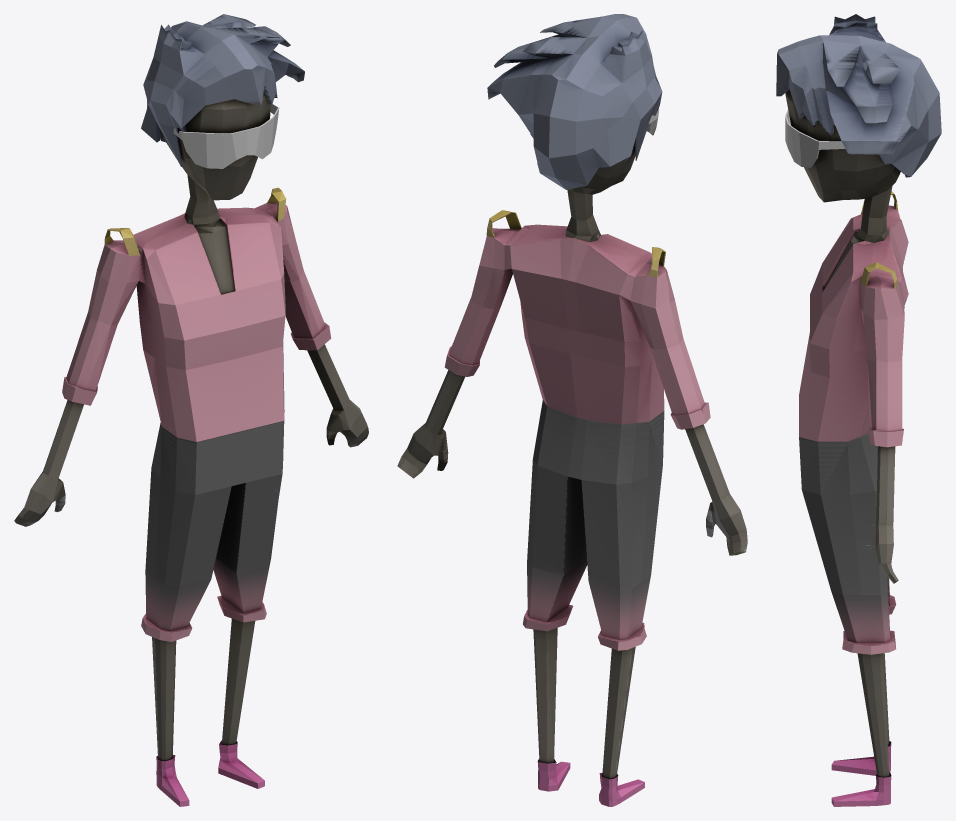
The model's file is alex.fbx.
The picture shows the model from 3 angles, left to right: view 1: azimuth 30°, elevation 25°; view 2: azimuth 150°, elevation 25°; view 3: azimuth 270°, elevation 25°; orthographic projection. The views are drawn at different scales.
Parts seen in each view (by area): view 1: Cube; view 2: Cube; view 3: Cube.
Boxes of the visible parts, x1,y1,x2,y2 form: Cube: (14, 14, 368, 806); Cube: (397, 14, 747, 806); Cube: (776, 14, 941, 806).
Bounding box in the file's own units: 90.44 × 188 × 37.5.
2 materials, 1 textured.
